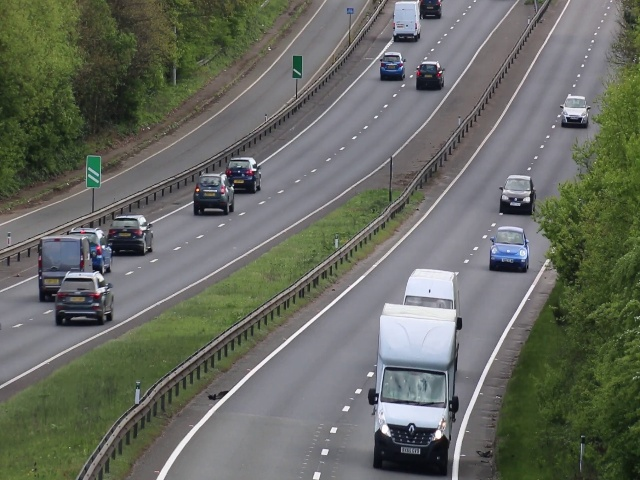car: (370, 367, 451, 476), (52, 271, 118, 324), (486, 225, 532, 274), (39, 235, 90, 274), (191, 174, 235, 217), (112, 214, 154, 257), (498, 171, 536, 216), (558, 92, 590, 132), (391, 1, 421, 43), (88, 227, 115, 273), (229, 154, 263, 190), (414, 58, 446, 94), (379, 50, 407, 83)
